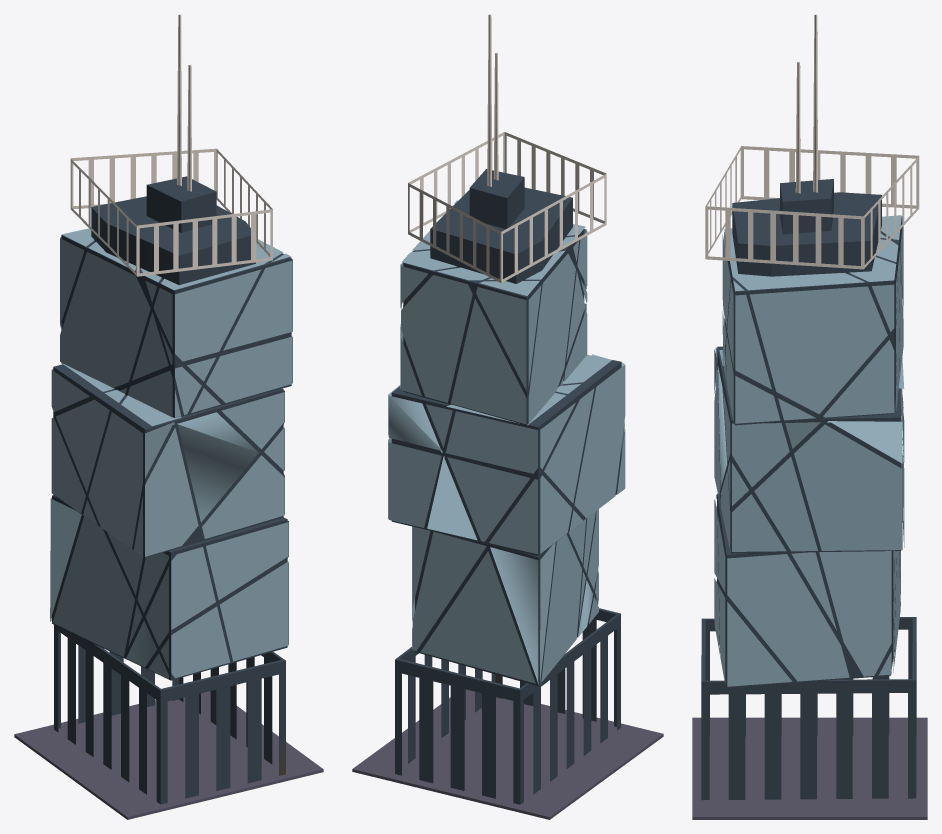
Rendered from building.758895f8 (1).fbx.
3 renders of one model, left to right at view 1: azimuth 30°, elevation 25°; view 2: azimuth 150°, elevation 25°; view 3: azimuth 270°, elevation 25°, orthographic. The views are drawn at different scales.
Visible parts, largest first — view 1: sky5, sky4, sky3, sky2, tower, Basic; view 2: sky4, sky5, sky3, sky2, tower, Basic; view 3: sky5, sky4, sky3, tower, Basic, sky2.
Boxes of the visible parts, x1=… form: sky5: x1=60, y1=228, x2=292, y2=426; sky4: x1=51, y1=364, x2=284, y2=557; sky3: x1=50, y1=495, x2=288, y2=680; sky2: x1=54, y1=625, x2=285, y2=804; tower: x1=70, y1=14, x2=272, y2=285; Basic: x1=14, y1=691, x2=323, y2=819; sky4: x1=388, y1=354, x2=625, y2=555; sky5: x1=400, y1=200, x2=611, y2=426; sky3: x1=412, y1=509, x2=598, y2=686; sky2: x1=395, y1=608, x2=620, y2=804; tower: x1=408, y1=14, x2=606, y2=283; Basic: x1=352, y1=689, x2=663, y2=819; sky5: x1=719, y1=215, x2=904, y2=425; sky4: x1=714, y1=346, x2=904, y2=553; sky3: x1=714, y1=493, x2=900, y2=688; tower: x1=705, y1=14, x2=919, y2=276; Basic: x1=692, y1=717, x2=927, y2=819; sky2: x1=701, y1=617, x2=916, y2=800.
Size of the model in its own units: 7.5 by 26.8 by 7.5.
2 materials, 1 textured.
